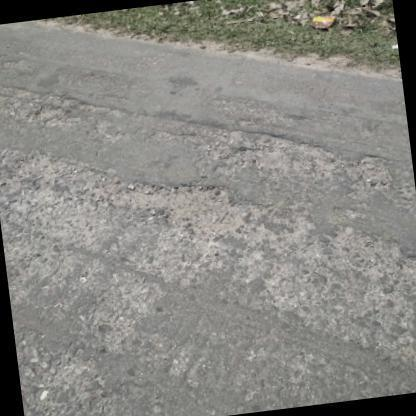pothole: (109, 174, 253, 247), (228, 121, 349, 189), (7, 88, 125, 137), (344, 224, 416, 286), (356, 150, 392, 197)
